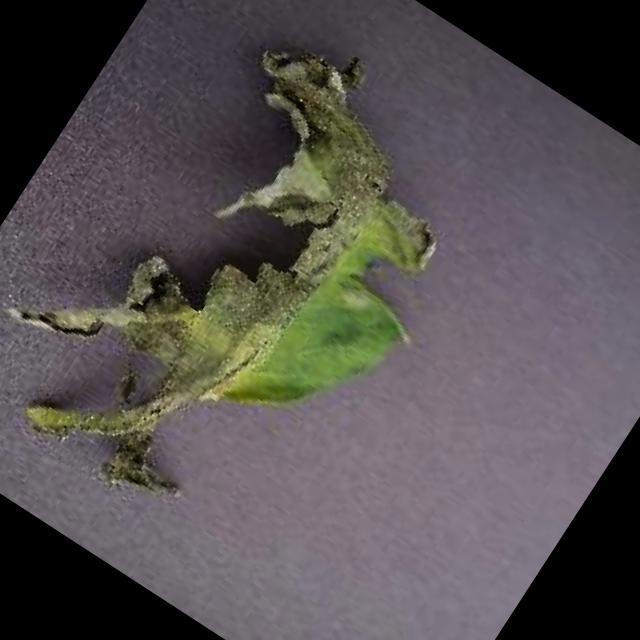Tomato late blight leaf: (0, 0, 523, 576)
